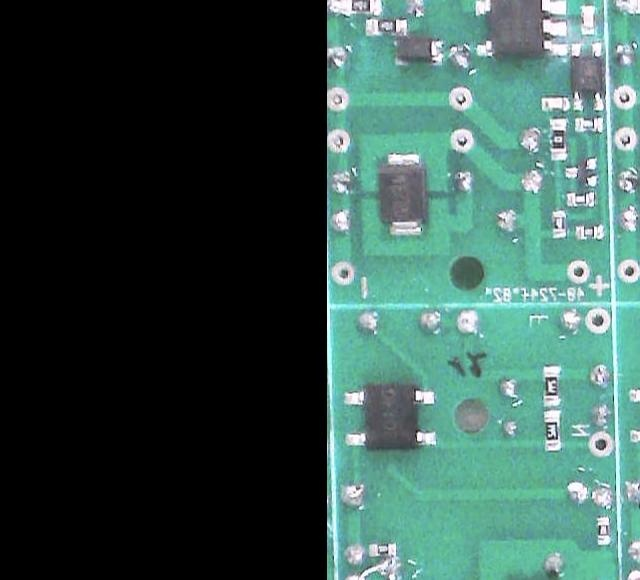chip-capacitor: (581, 4, 595, 33), (540, 96, 568, 109)
chip-resistor: (366, 17, 406, 34), (550, 118, 566, 159), (543, 365, 559, 404), (544, 411, 560, 449), (345, 0, 381, 14), (566, 191, 594, 205), (575, 117, 601, 132), (575, 225, 602, 239), (552, 210, 566, 237), (368, 543, 396, 556), (597, 516, 609, 544)
diode: (379, 152, 427, 236), (395, 36, 442, 65)
ic: (344, 383, 436, 449), (472, 0, 568, 58), (571, 43, 604, 110)
transistor: (566, 158, 597, 186)
